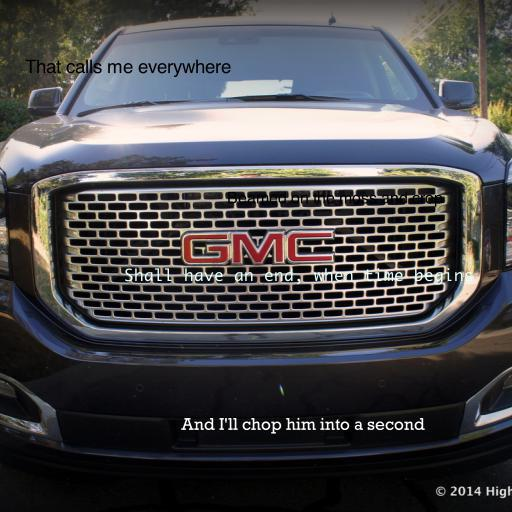Monaco: (124, 268, 474, 285)
Rockwell: (181, 417, 425, 434)
SF Pro: (25, 59, 231, 78)
SignPainter: (227, 191, 443, 207)
